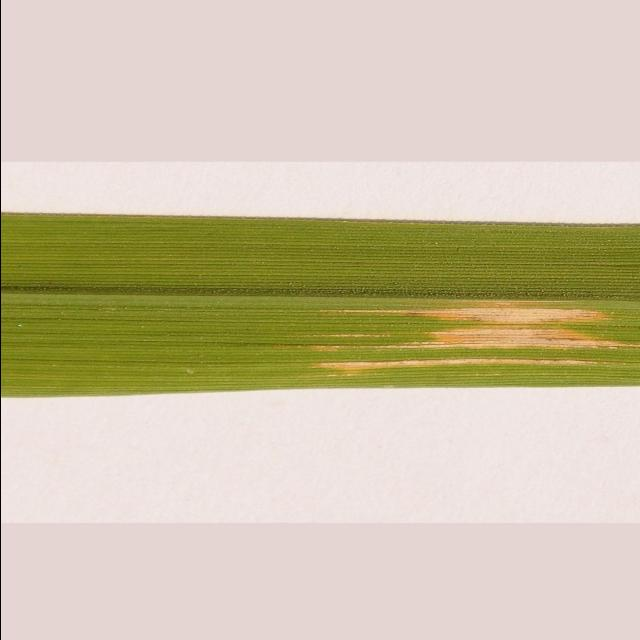Bacterial leaf blight: (2, 214, 640, 399)
